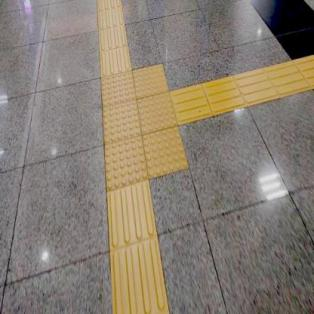Podoctatil: (80, 48, 201, 204), (179, 52, 314, 127), (107, 192, 169, 313), (96, 0, 132, 70)
